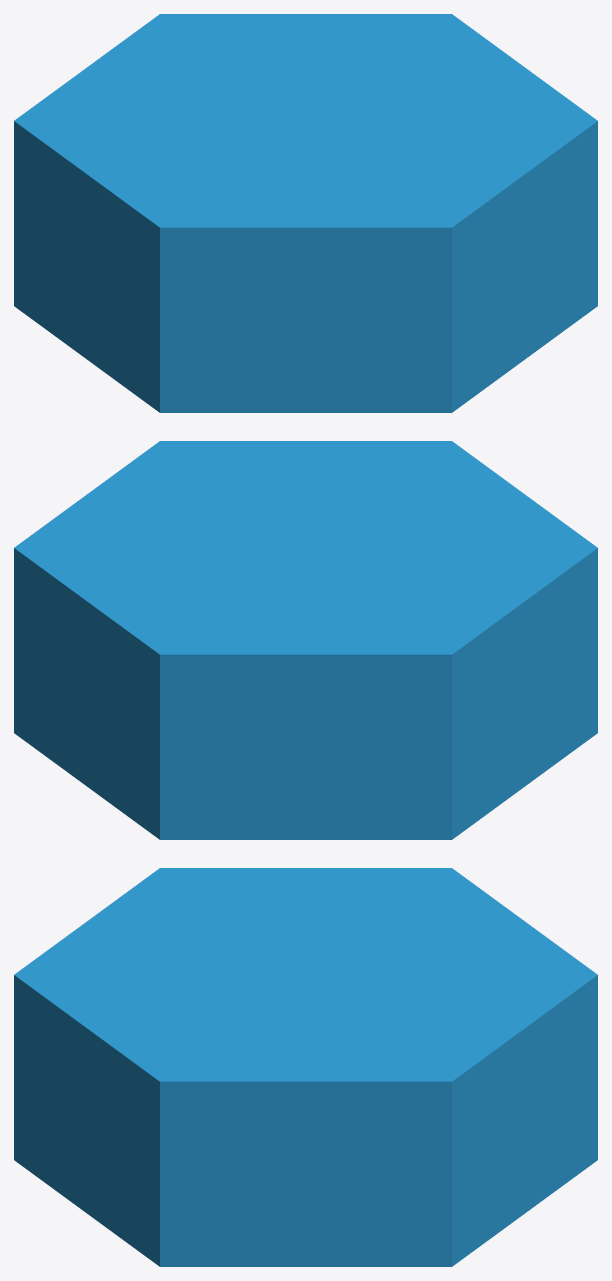
File: _water_wall_t.glb
The picture shows the model from 3 angles, top to bottom: view 1: azimuth 30°, elevation 25°; view 2: azimuth 150°, elevation 25°; view 3: azimuth 270°, elevation 25°; orthographic projection.
Visible parts, largest first — view 1: WaterWallTall; view 2: WaterWallTall; view 3: WaterWallTall.
Part boxes in pixels (box(x1,y1,x2,y2)): WaterWallTall: box(14, 14, 597, 412); WaterWallTall: box(14, 441, 597, 839); WaterWallTall: box(14, 868, 597, 1266).
Size of the model in its own units: 1.73 by 0.7 by 2.
1 material, 1 textured.
